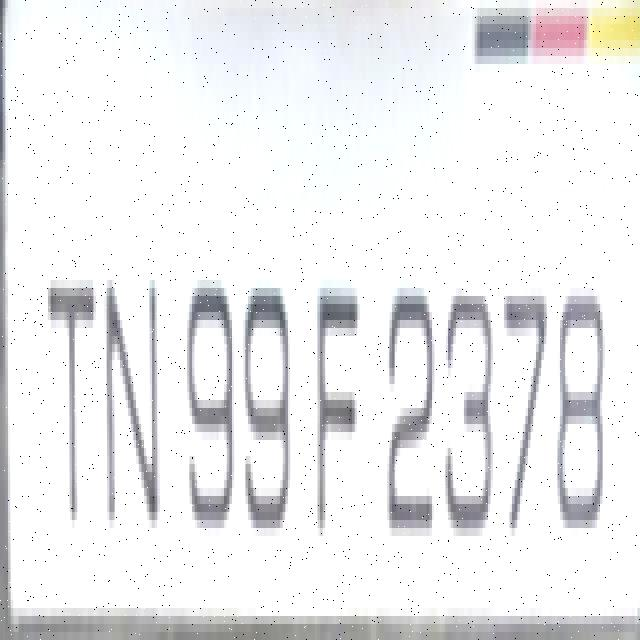licenseplate: (19, 258, 633, 590)
